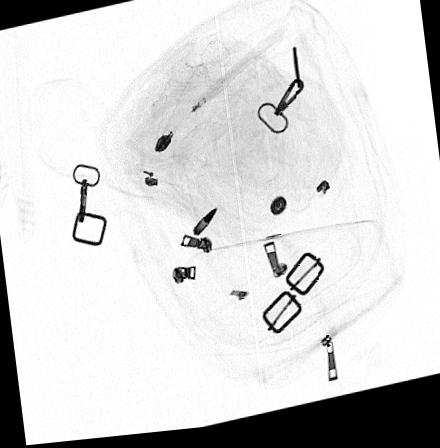Bullet: (191, 210, 217, 240)
